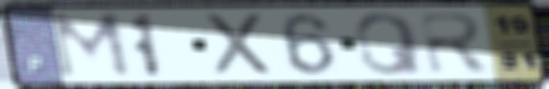1: (126, 10, 167, 81)
6: (277, 10, 341, 79)
M: (45, 10, 135, 82)
Q: (351, 10, 429, 77)
R: (415, 10, 497, 77)
X: (202, 11, 279, 79)
